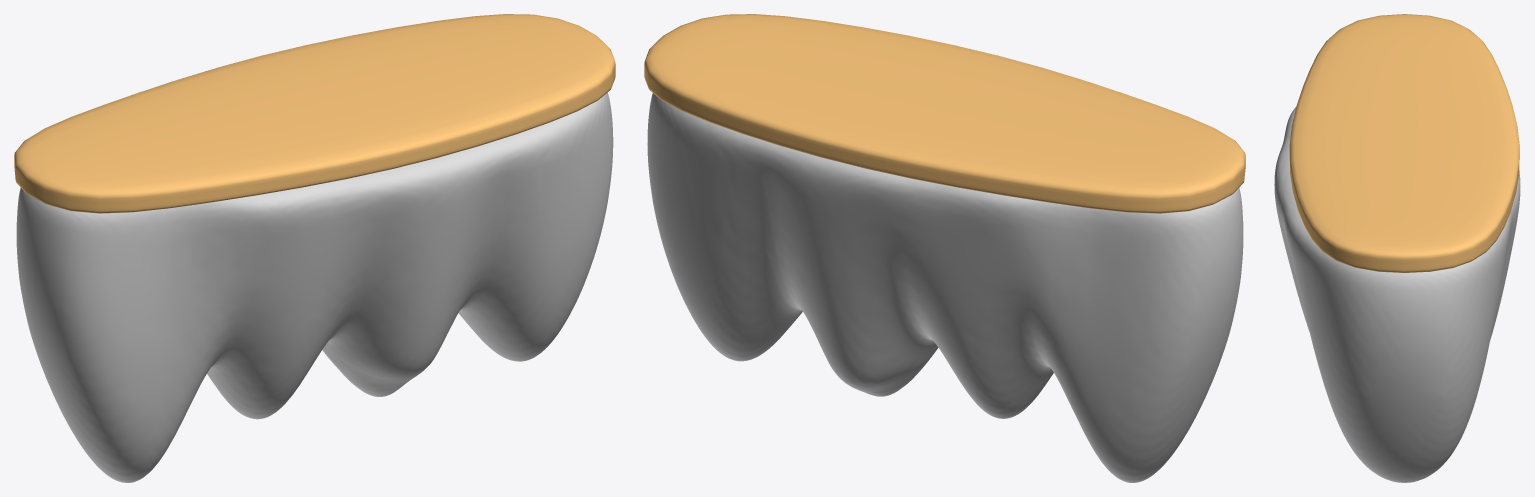
File: beehive.fbx
3 views of the same model, side by side, from view 1: azimuth 30°, elevation 25°; view 2: azimuth 150°, elevation 25°; view 3: azimuth 270°, elevation 25° (orthographic). The views are drawn at different scales.
Visible parts, largest first — view 1: Beehive; view 2: Beehive; view 3: Beehive.
Part boxes in pixels (x1=…): Beehive: x1=14, y1=14, x2=615, y2=482; Beehive: x1=644, y1=14, x2=1245, y2=482; Beehive: x1=1274, y1=14, x2=1520, y2=482.
Bounding box in the file's own units: 611 × 339 × 262.
